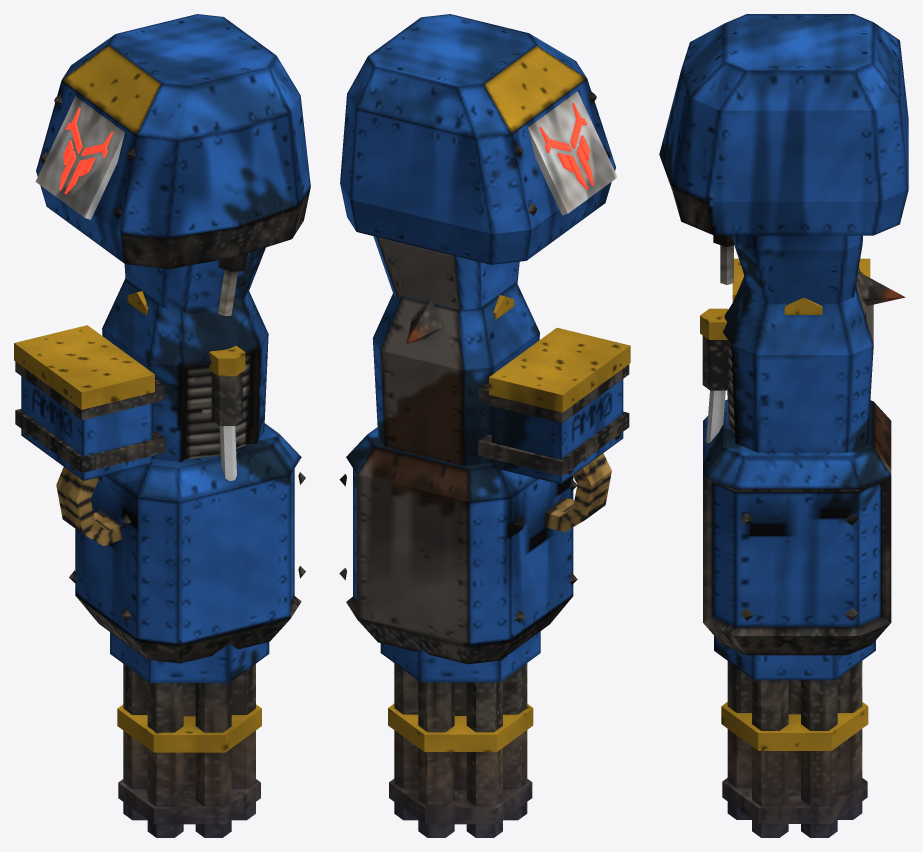
The model's file is LeftGattlingGunArmY.glb.
3 renders of one model, left to right at view 1: azimuth 30°, elevation 25°; view 2: azimuth 150°, elevation 25°; view 3: azimuth 270°, elevation 25°, orthographic.
Parts seen in each view (by area): view 1: LeftGattlingGunArmY_Fore, LeftGattlingGunArmY_Upper, LeftGattlingGunArmY_Barrels; view 2: LeftGattlingGunArmY_Fore, LeftGattlingGunArmY_Upper, LeftGattlingGunArmY_Barrels; view 3: LeftGattlingGunArmY_Fore, LeftGattlingGunArmY_Upper, LeftGattlingGunArmY_Barrels.
Part boxes in pixels (box(x1,y1,x2,y2)): LeftGattlingGunArmY_Fore: box(14, 278, 305, 663); LeftGattlingGunArmY_Upper: box(35, 14, 310, 315); LeftGattlingGunArmY_Barrels: box(110, 632, 269, 837); LeftGattlingGunArmY_Fore: box(339, 282, 630, 664); LeftGattlingGunArmY_Upper: box(340, 14, 617, 310); LeftGattlingGunArmY_Barrels: box(380, 631, 540, 837); LeftGattlingGunArmY_Fore: box(700, 258, 905, 655); LeftGattlingGunArmY_Upper: box(659, 14, 908, 304); LeftGattlingGunArmY_Barrels: box(714, 635, 875, 837).
Bounding box in the file's own units: 6.22 × 19.5 × 5.7.
Materials: 12 (11 with a texture image).
